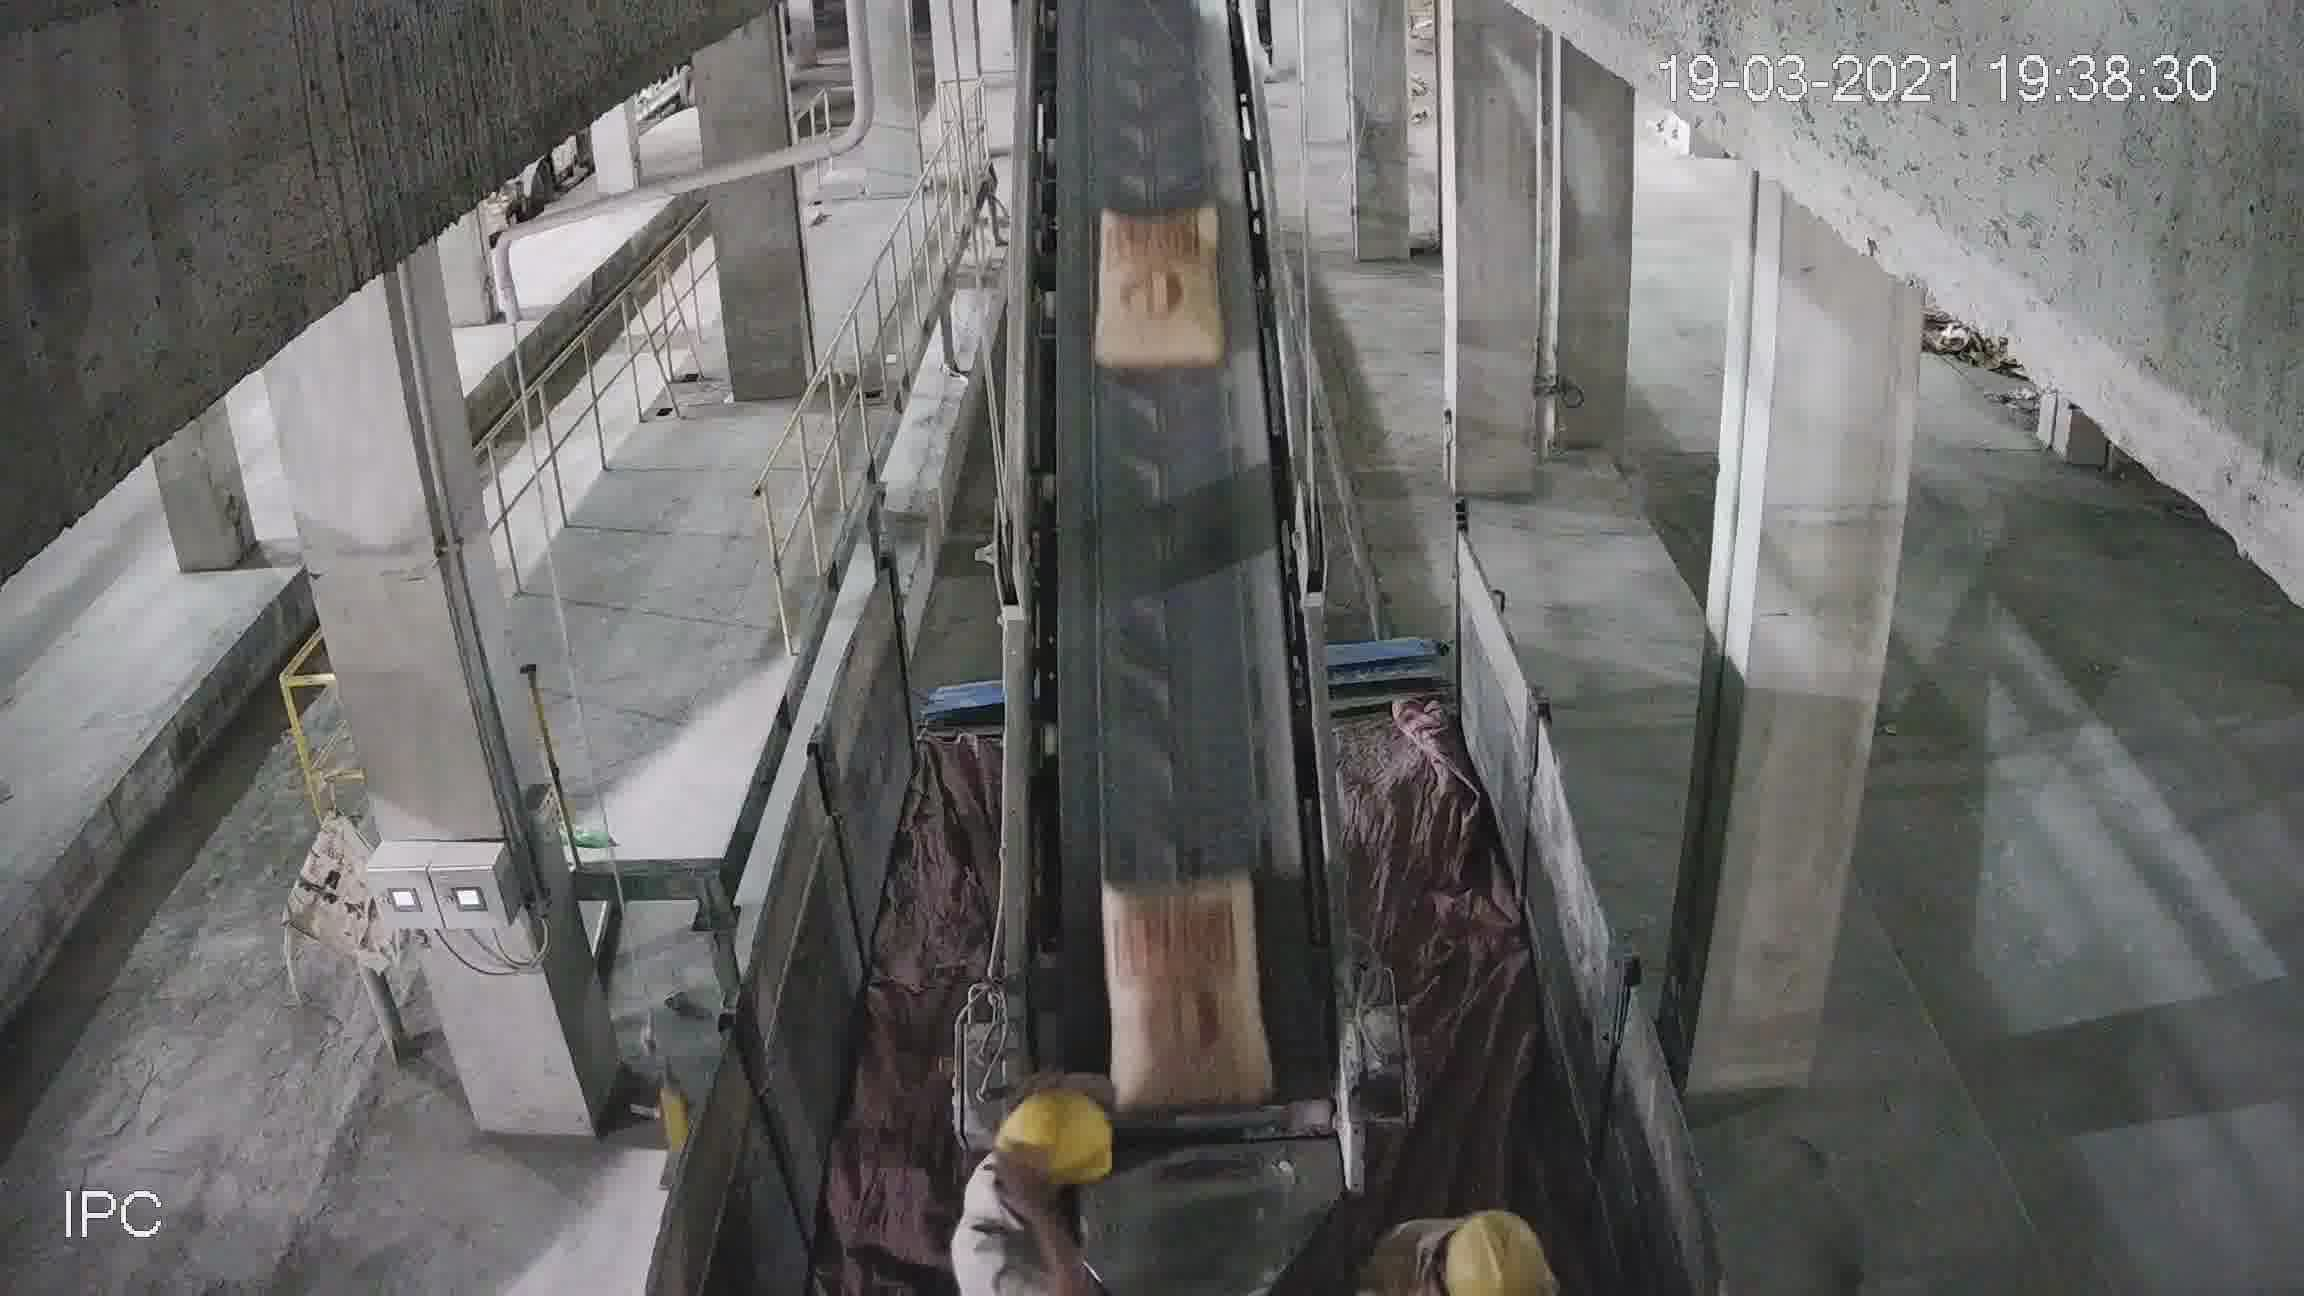bag: (1108, 870, 1258, 1095), (1097, 218, 1218, 366)
belt: (986, 114, 1372, 1263)
